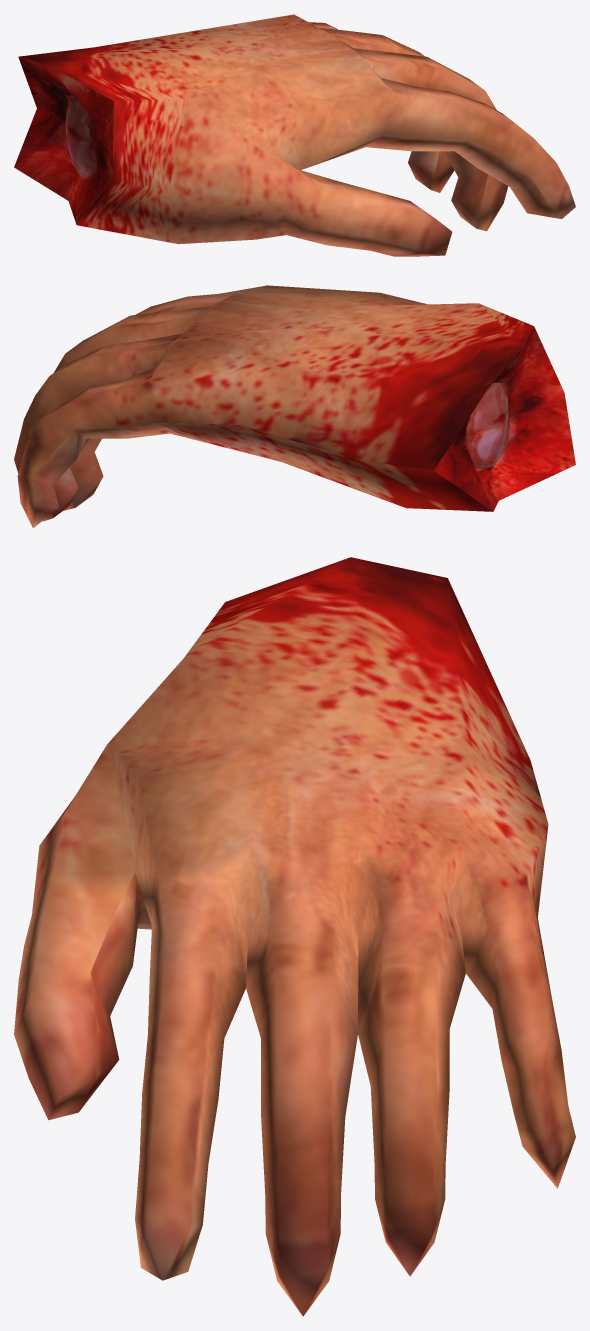
The model's file is female_lt_hand.fbx.
The picture shows the model from 3 angles, top to bottom: view 1: azimuth 30°, elevation 25°; view 2: azimuth 150°, elevation 25°; view 3: azimuth 270°, elevation 25°; orthographic projection. The views are drawn at different scales.
Parts seen in each view (by area): view 1: fm_lt_hand_gib; view 2: fm_lt_hand_gib; view 3: fm_lt_hand_gib.
Boxes of the visible parts, x1,y1,x2,y2 form: fm_lt_hand_gib: [14, 14, 575, 256]; fm_lt_hand_gib: [14, 285, 575, 528]; fm_lt_hand_gib: [14, 557, 575, 1316].
Bounding box in the file's own units: 0.1908 × 0.0982 × 0.1185.
